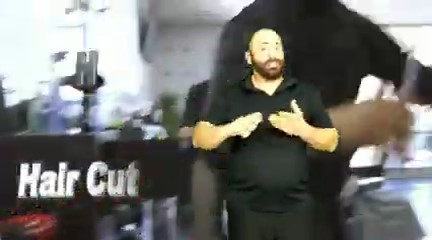H: (229, 97, 310, 143)
